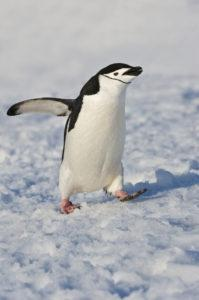chinstrap: (2, 46, 158, 220)
